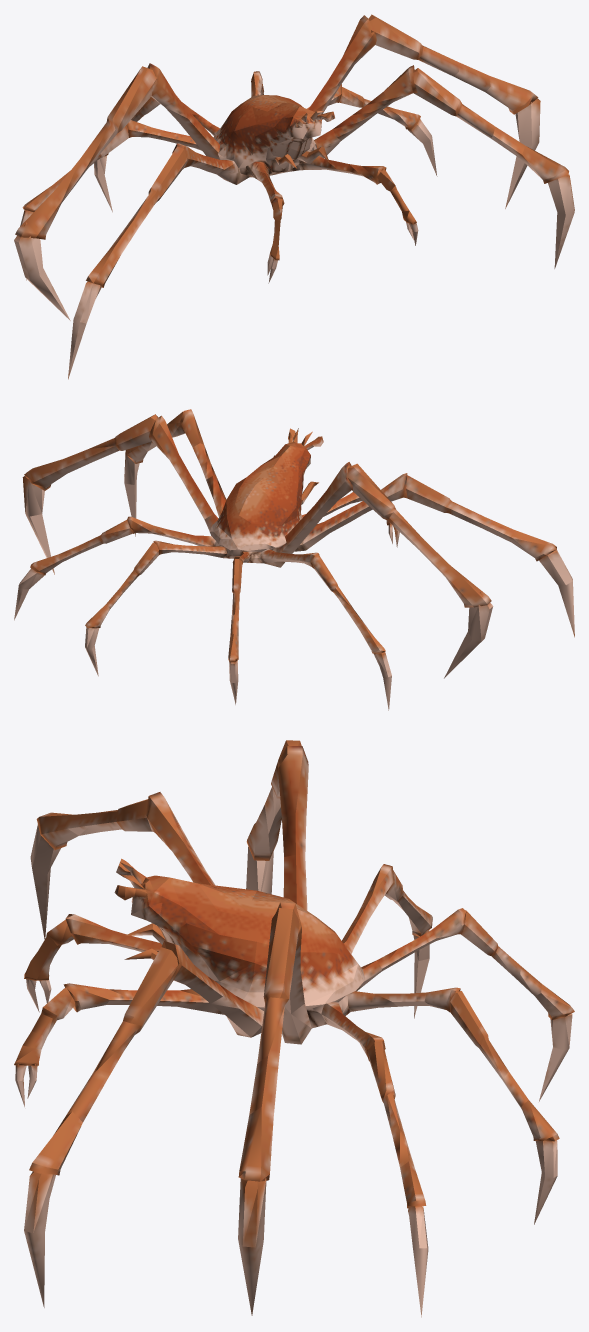
Rendered from Crab.DAE.
The picture shows the model from 3 angles, top to bottom: view 1: azimuth 30°, elevation 25°; view 2: azimuth 150°, elevation 25°; view 3: azimuth 270°, elevation 25°; orthographic projection. The views are drawn at different scales.
Parts seen in each view (by area): view 1: Mesh_0036, Mesh_0038; view 2: Mesh_0036, Mesh_0038; view 3: Mesh_0038, Mesh_0036.
Part boxes in pixels (left/top/right/bottom): Mesh_0036: left=14, top=63, right=420, bottom=320; Mesh_0038: left=20, top=14, right=574, bottom=379; Mesh_0036: left=30, top=409, right=556, bottom=678; Mesh_0038: left=14, top=411, right=574, bottom=710; Mesh_0038: left=14, top=824, right=572, bottom=1317; Mesh_0036: left=24, top=740, right=574, bottom=1208.
Size of the model in its own units: 173 by 69.3 by 104.
